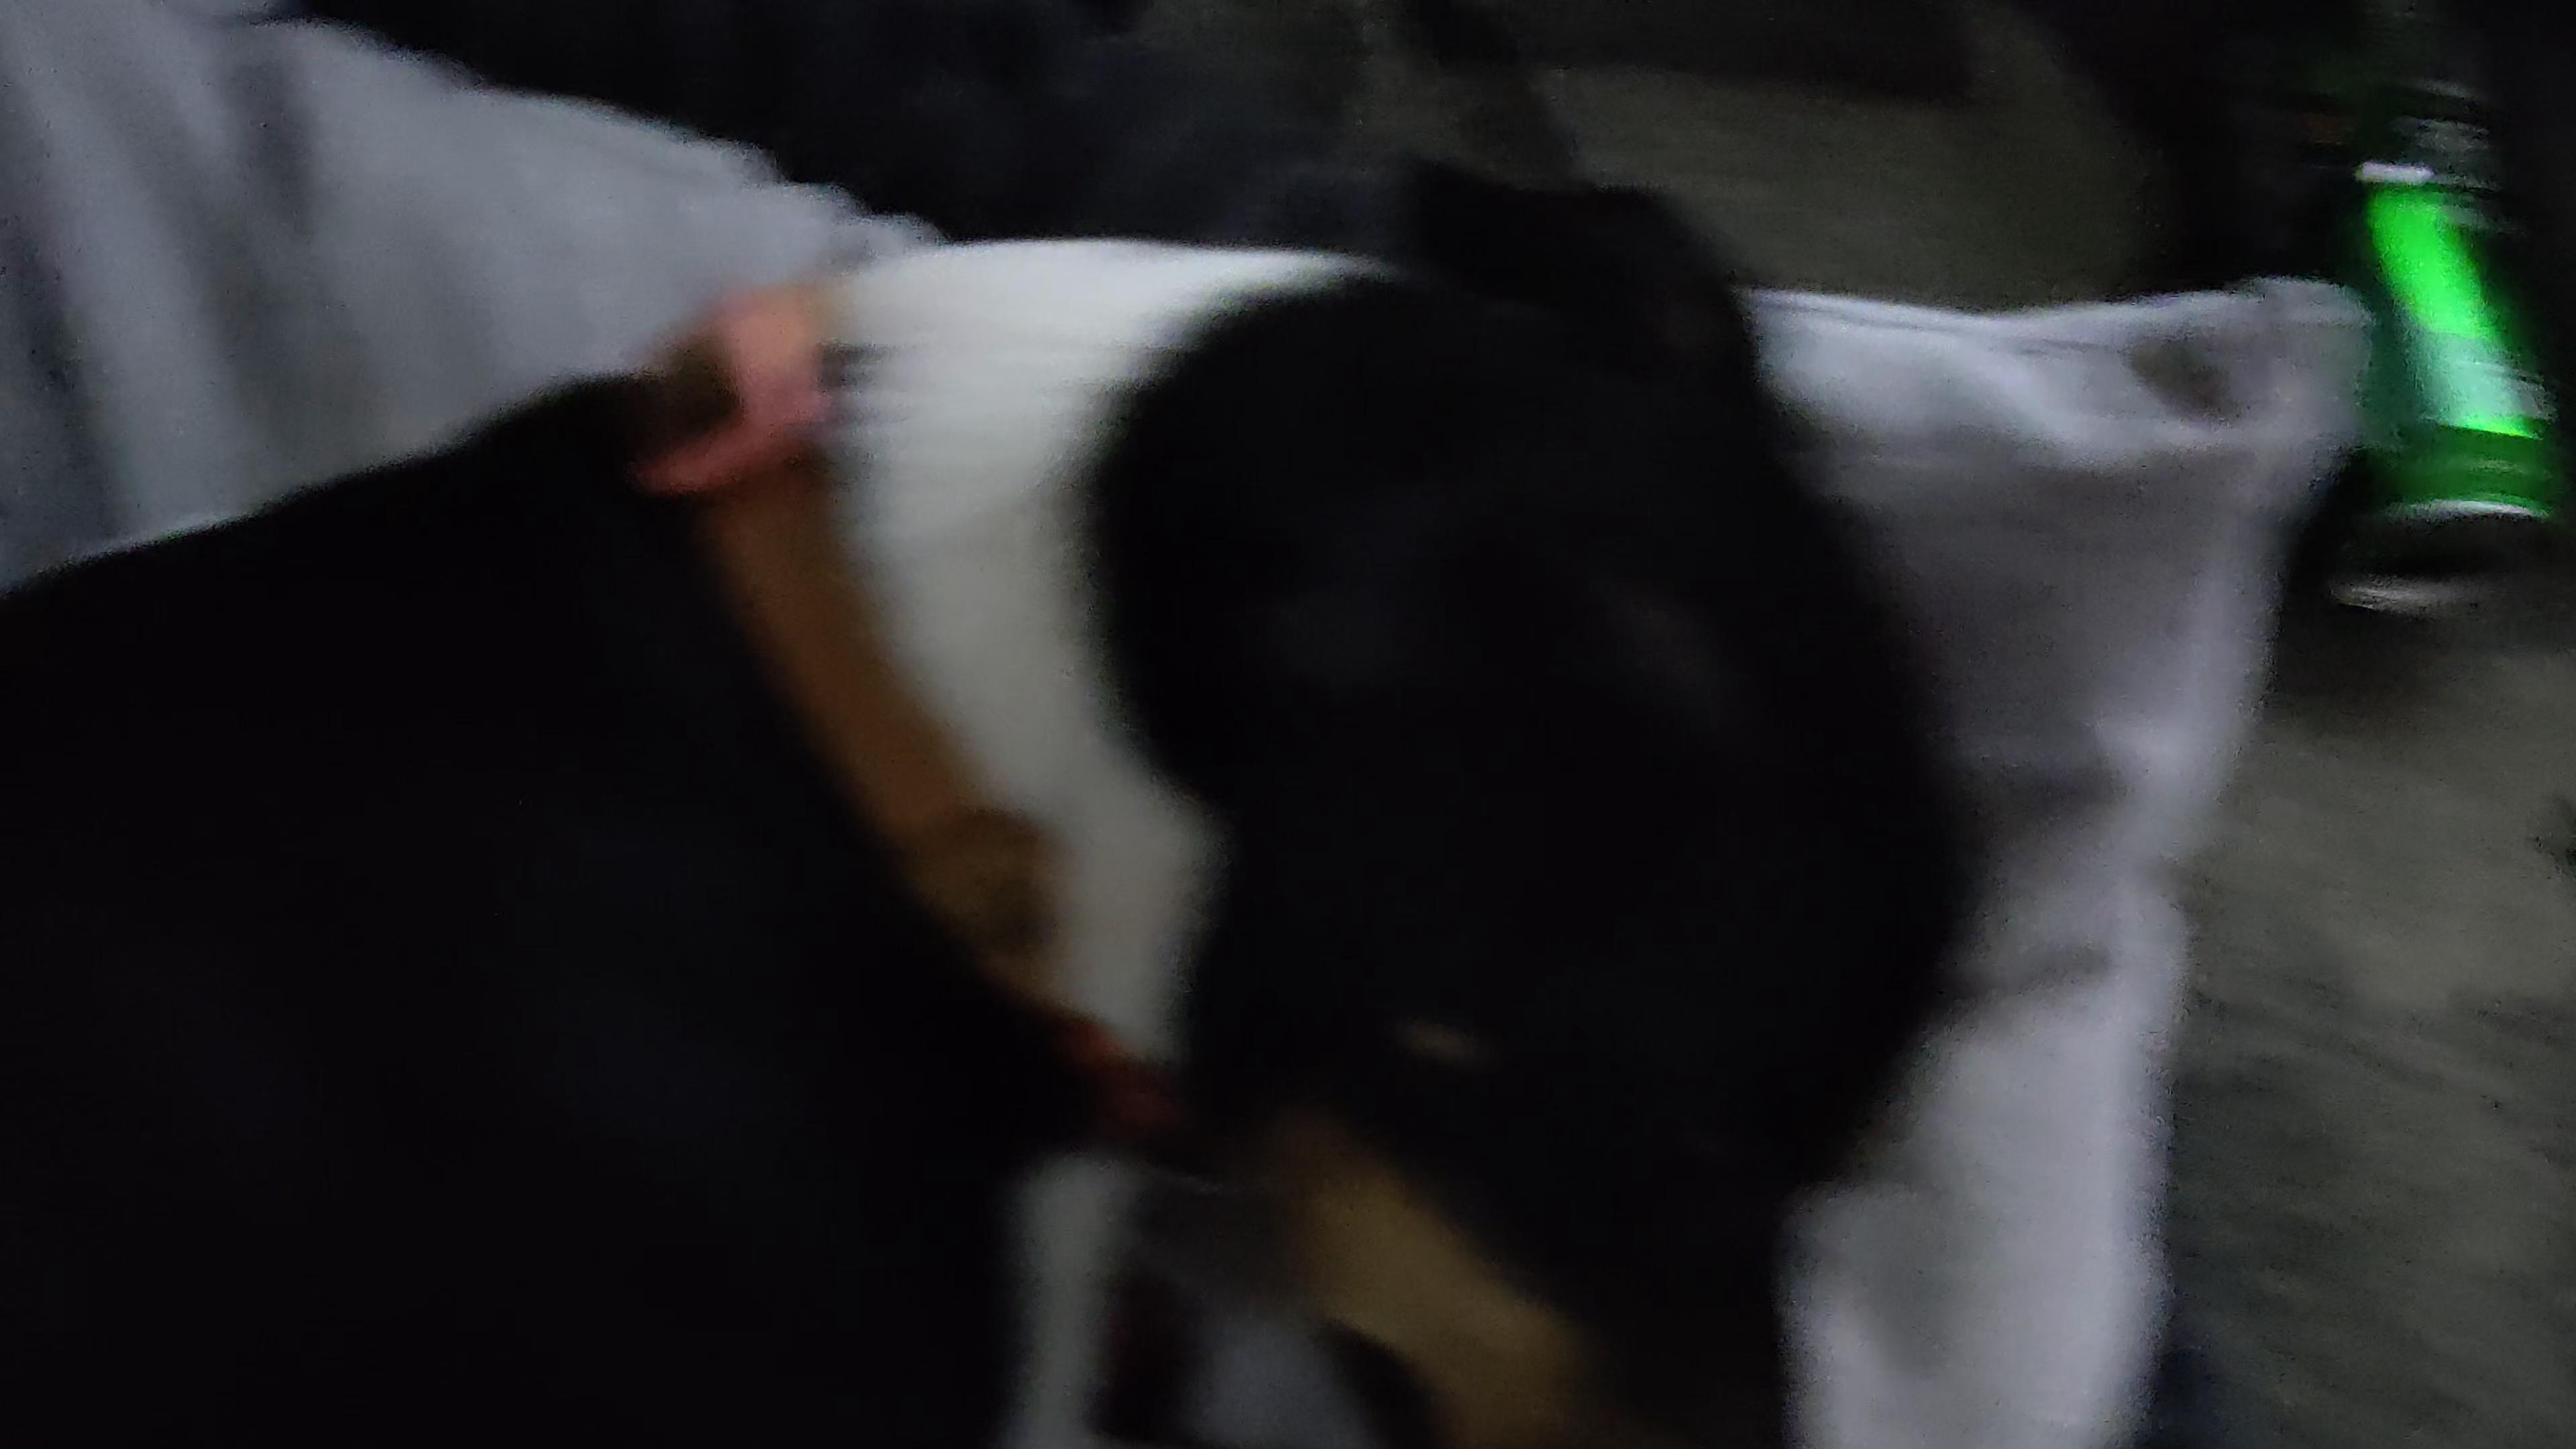Dog: (0, 152, 2077, 1449)
